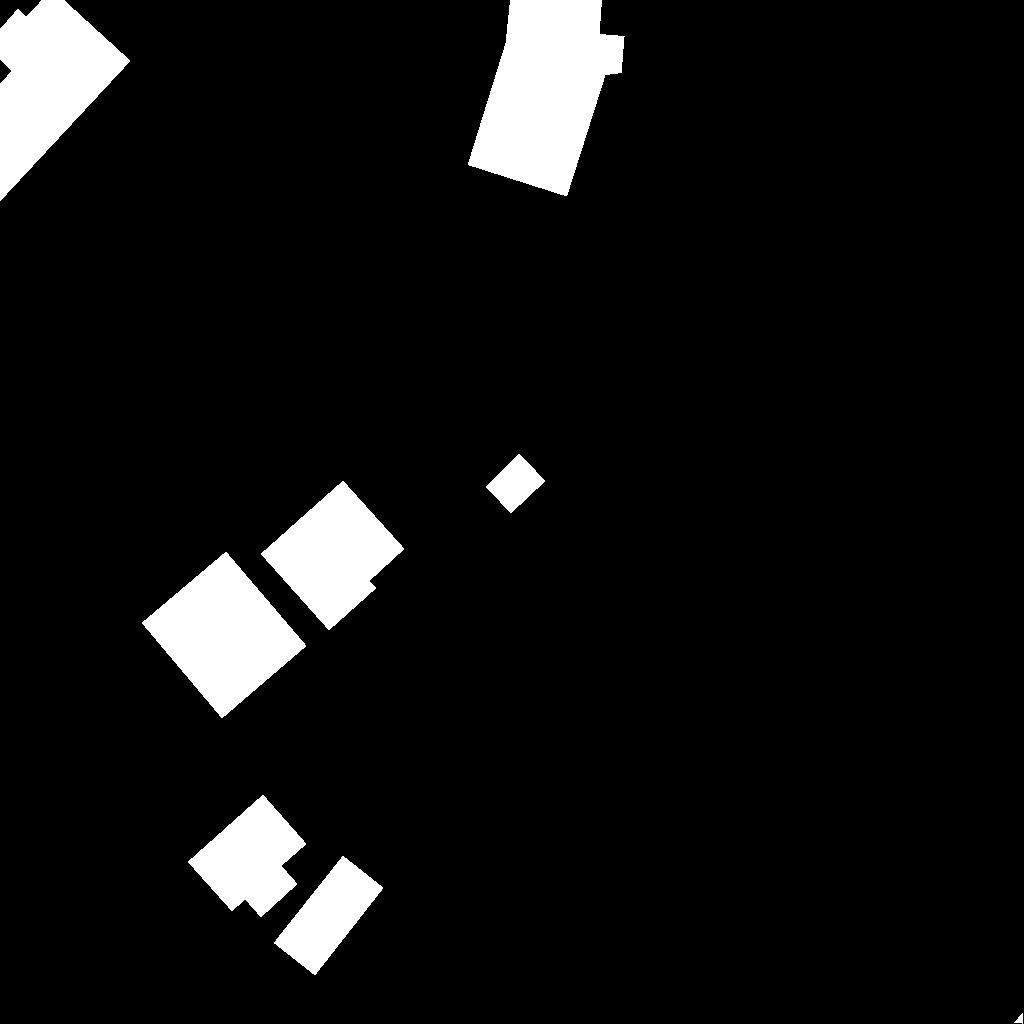building: (468, 0, 625, 197), (142, 552, 307, 719), (0, 0, 131, 202), (261, 481, 405, 631), (188, 795, 307, 918), (274, 856, 384, 976), (486, 454, 546, 514), (1014, 1013, 1024, 1024)
